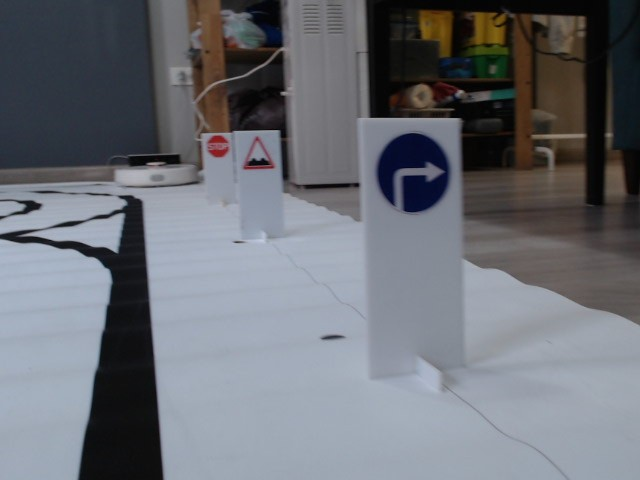Nerov: (243, 135, 276, 169)
Right: (376, 130, 451, 214)
Stop: (205, 134, 230, 157)
